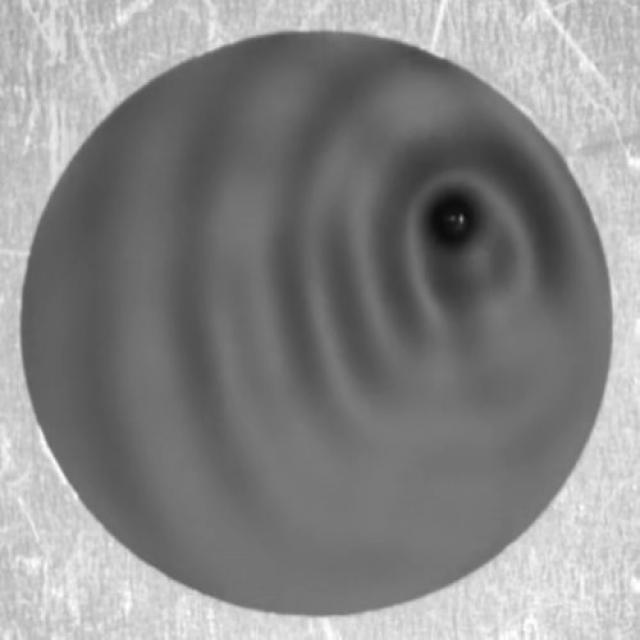droplet: (436, 202, 473, 250)
